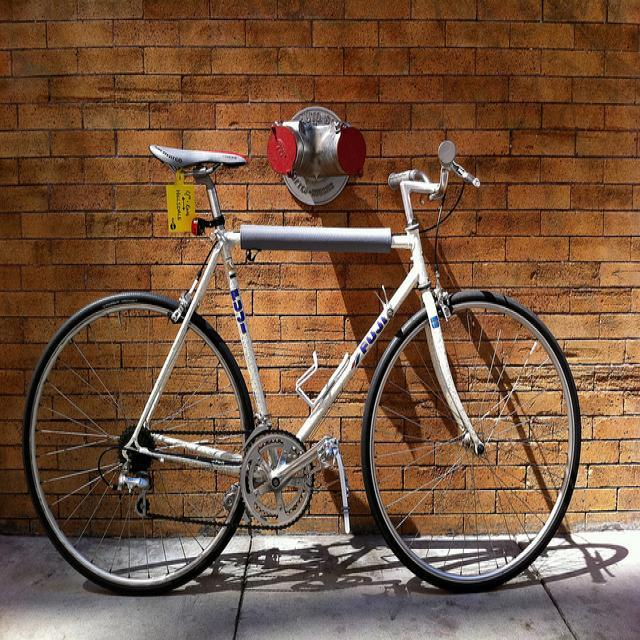fire_hydrant: (267, 105, 366, 206)
